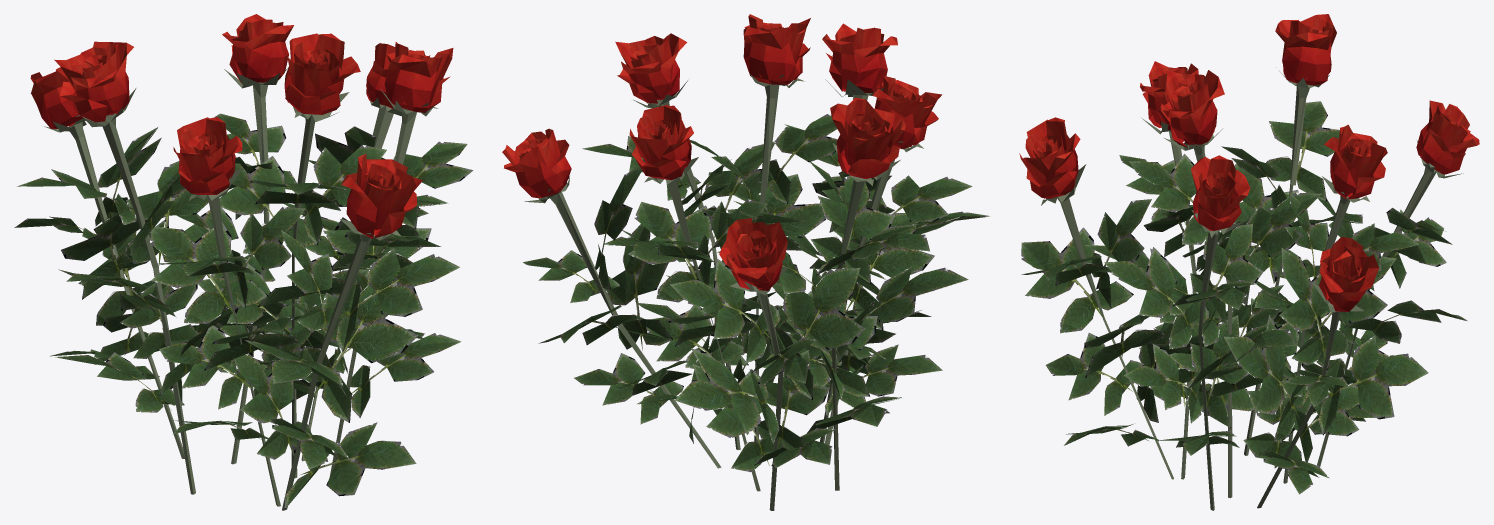
File: sh-scopia-roses-bush.glb
3 renders of one model, left to right at view 1: azimuth 30°, elevation 25°; view 2: azimuth 150°, elevation 25°; view 3: azimuth 270°, elevation 25°, orthographic. The views are drawn at different scales.
Visible parts, largest first — view 1: Leaves, rose, stem; view 2: Leaves, rose, stem; view 3: Leaves, rose, stem.
Boxes of the visible parts, box(x1,y1,x2,y2) form: Leaves: box(14, 113, 473, 509); rose: box(30, 14, 453, 238); stem: box(44, 68, 438, 510); Leaves: box(523, 114, 989, 472); rose: box(502, 14, 942, 290); stem: box(524, 73, 923, 510); Leaves: box(1021, 101, 1467, 494); rose: box(1019, 14, 1479, 311); stem: box(1041, 67, 1463, 510).
Bounding box in the file's own units: 0.999 × 1 × 0.9934.
Materials: 3 (2 with a texture image).
